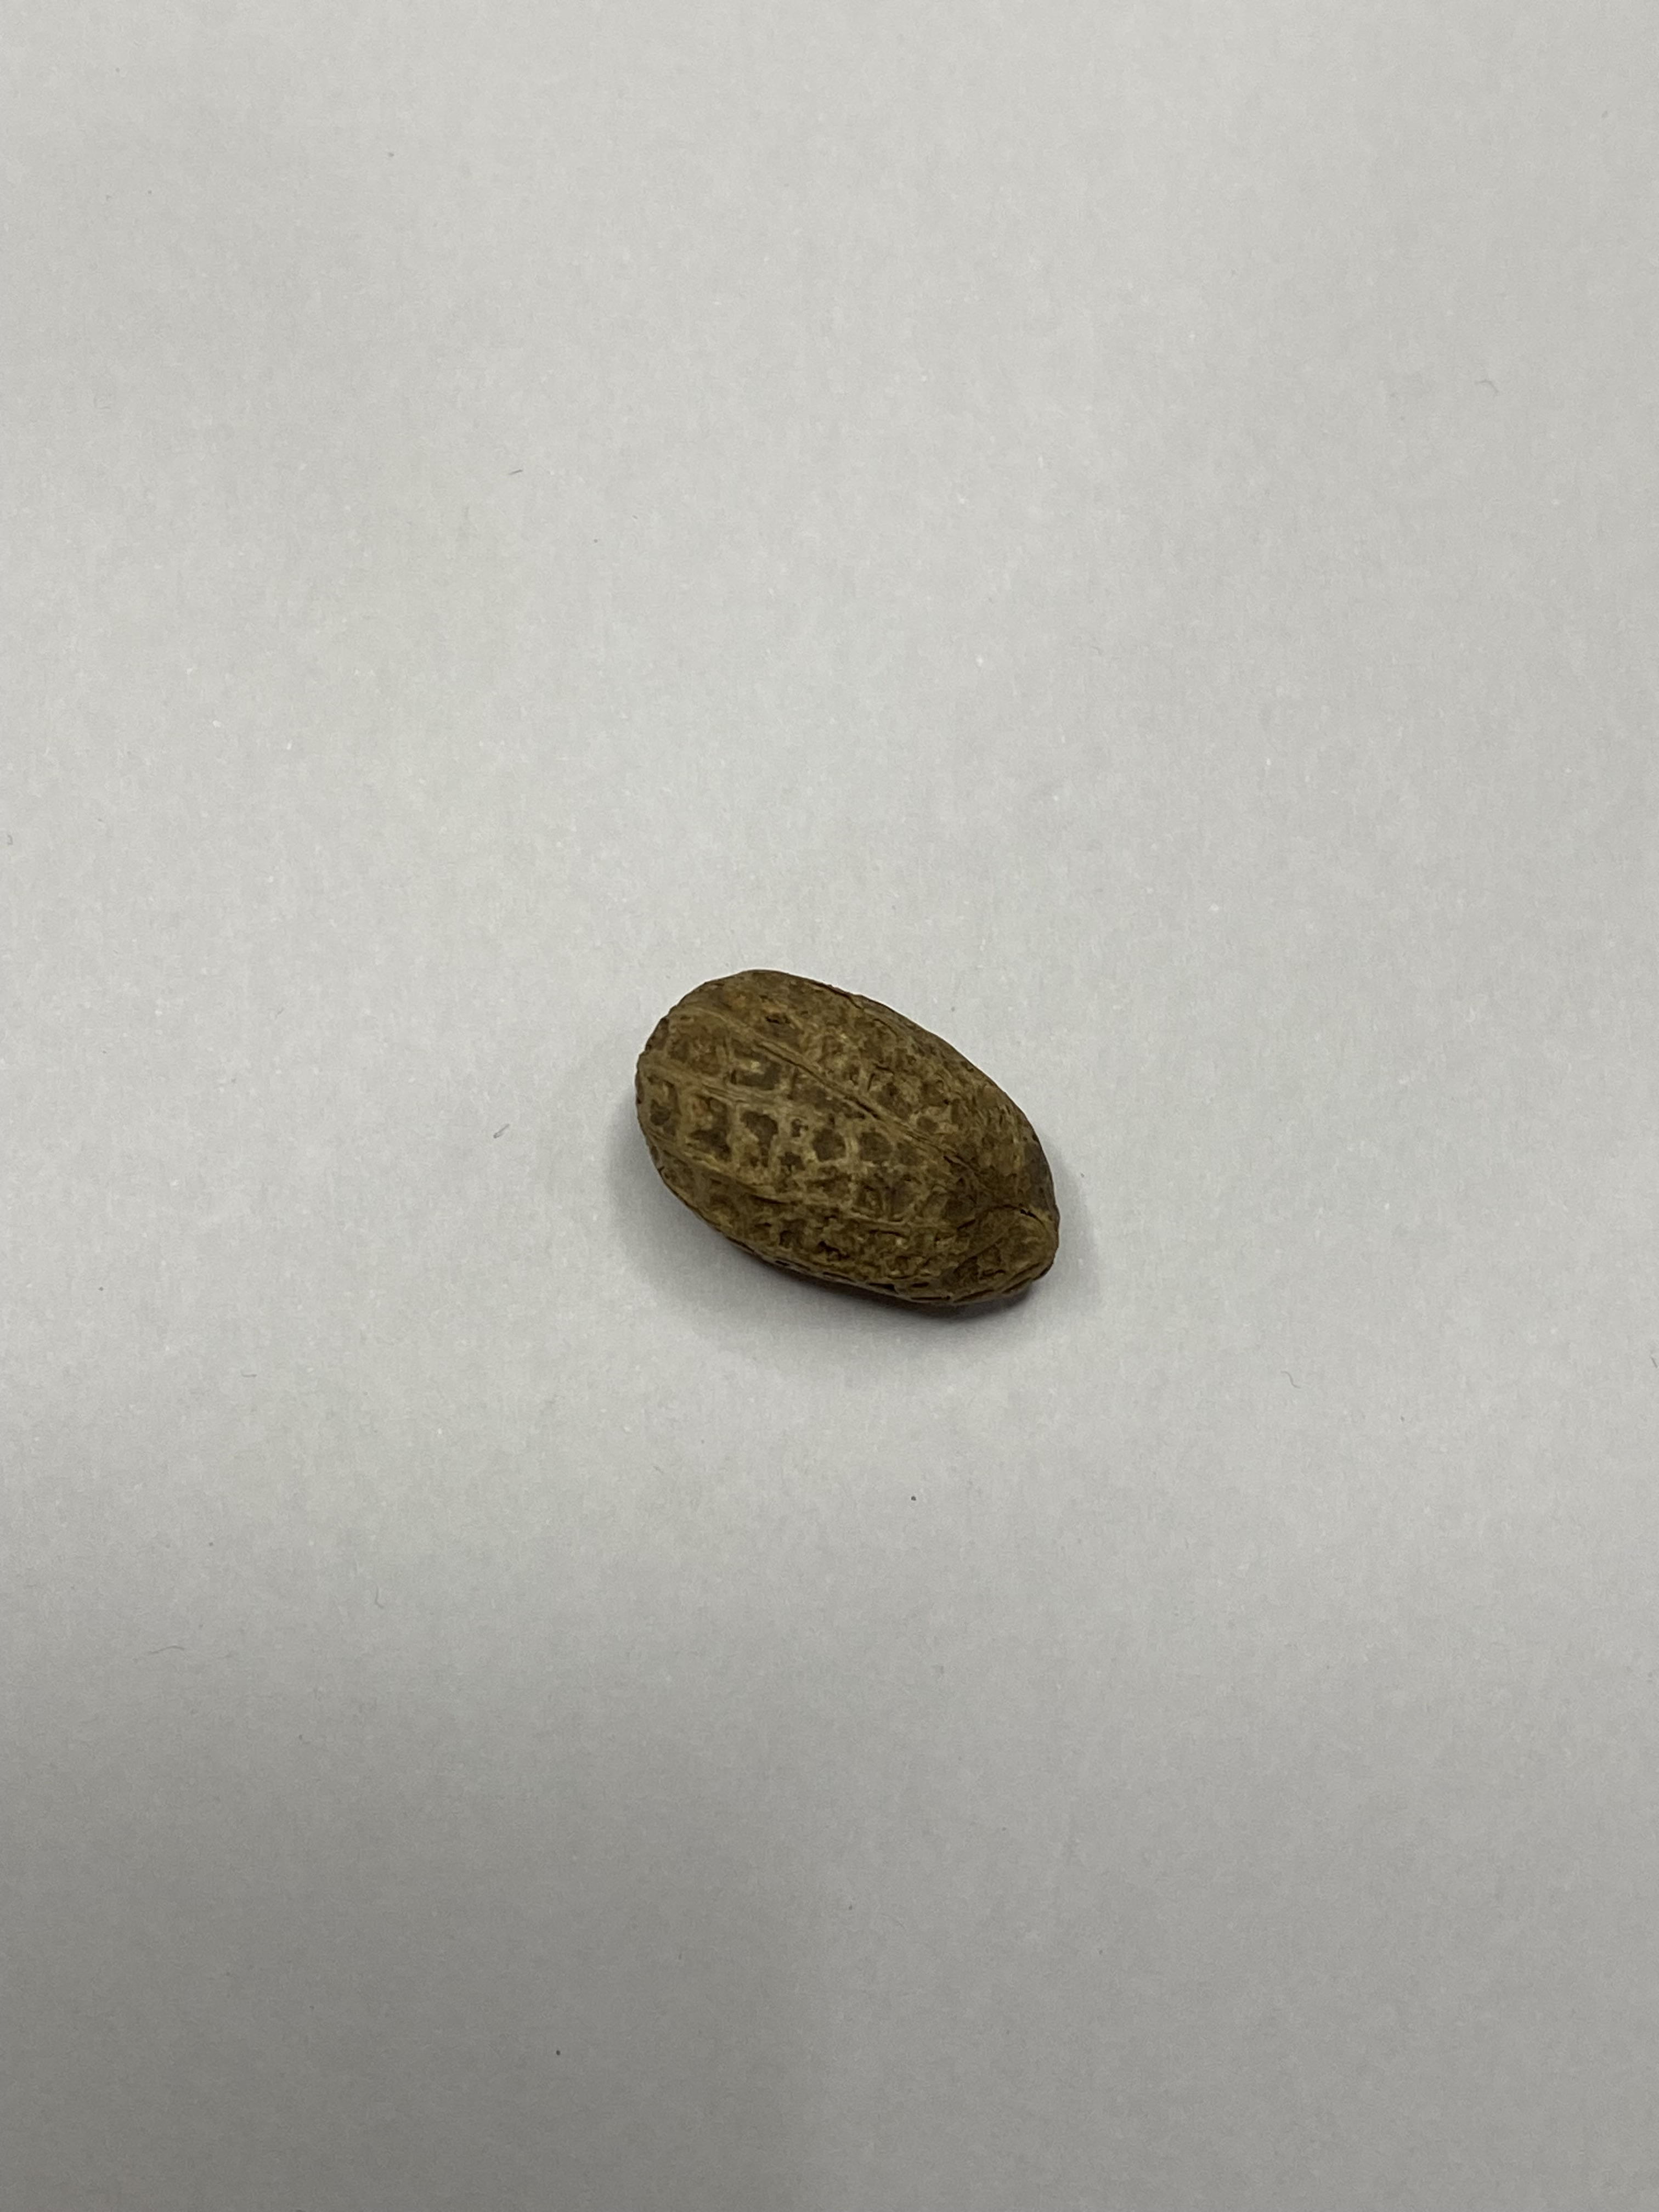kacang1: (573, 942, 1126, 1339)
